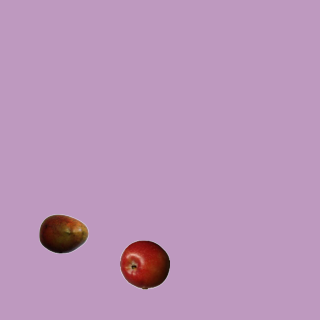Apple Braeburn: (119, 239, 169, 289)
Mango Red: (38, 208, 88, 258)
